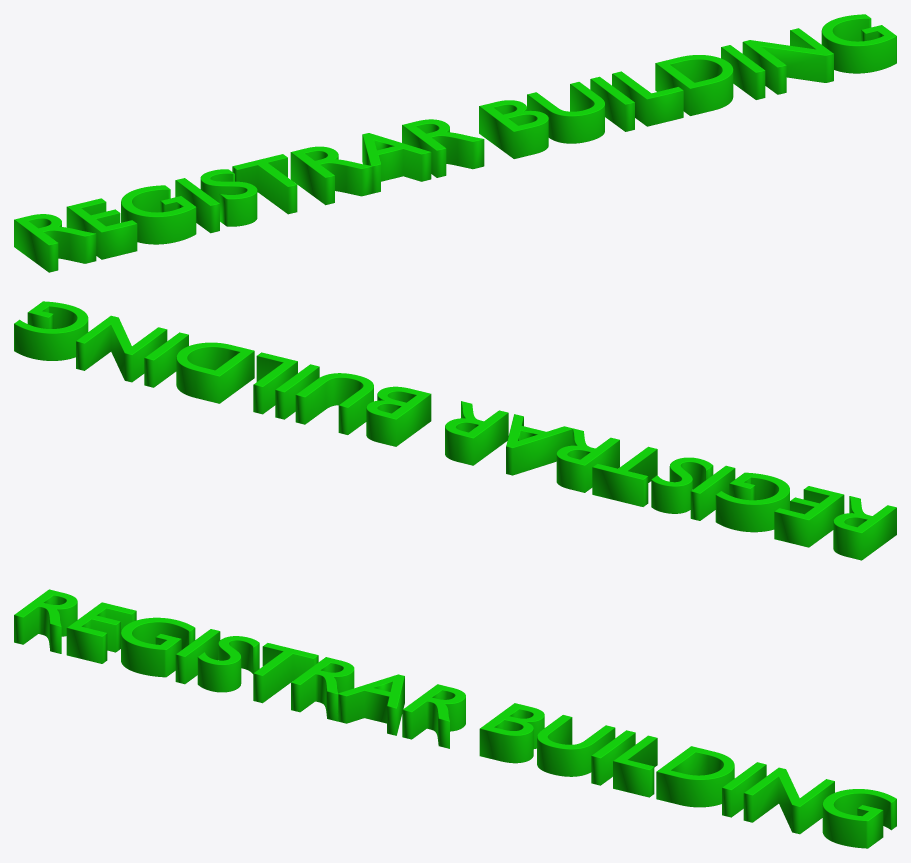
The model's file is registrar_building.glb.
3 renders of one model, top to bottom at view 1: azimuth 30°, elevation 25°; view 2: azimuth 150°, elevation 25°; view 3: azimuth 330°, elevation 25°, orthographic.
Parts seen in each view (by area): view 1: Text.003; view 2: Text.003; view 3: Text.003.
Part boxes in pixels (x1,y1,x2,y2): Text.003: [14, 14, 896, 272]; Text.003: [14, 301, 896, 560]; Text.003: [14, 589, 896, 848].
Bounding box in the file's own units: 19.8 × 0.62 × 1.45.
